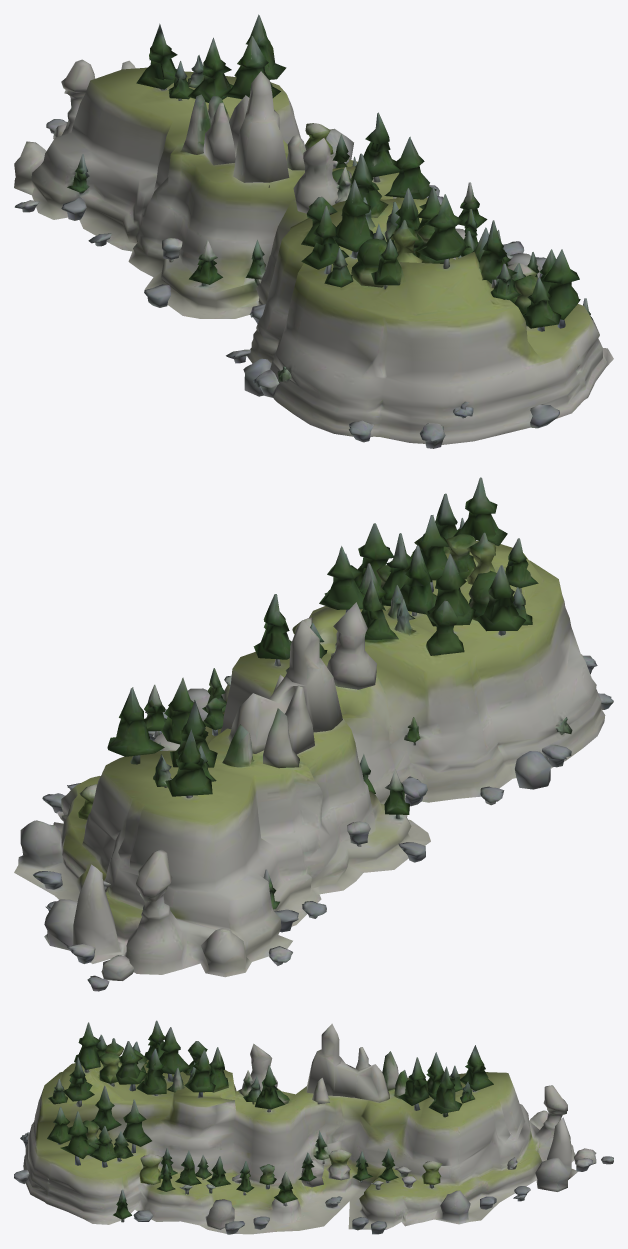
Rendered from isle_12.glb.
3 views of the same model, one above another, from view 1: azimuth 30°, elevation 25°; view 2: azimuth 150°, elevation 25°; view 3: azimuth 270°, elevation 25° (orthographic). The views are drawn at different scales.
Visible parts, largest first — view 1: tripo_node_e1d0351f-1920-43ce-9957-77d328745bed; view 2: tripo_node_e1d0351f-1920-43ce-9957-77d328745bed; view 3: tripo_node_e1d0351f-1920-43ce-9957-77d328745bed.
Boxes of the visible parts, box(x1,y1,x2,y2) form: tripo_node_e1d0351f-1920-43ce-9957-77d328745bed: box(14, 14, 613, 448); tripo_node_e1d0351f-1920-43ce-9957-77d328745bed: box(14, 477, 613, 991); tripo_node_e1d0351f-1920-43ce-9957-77d328745bed: box(14, 1020, 613, 1234).
Size of the model in its own units: 34.23 by 20.08 by 73.82.
1 material, 1 textured.
